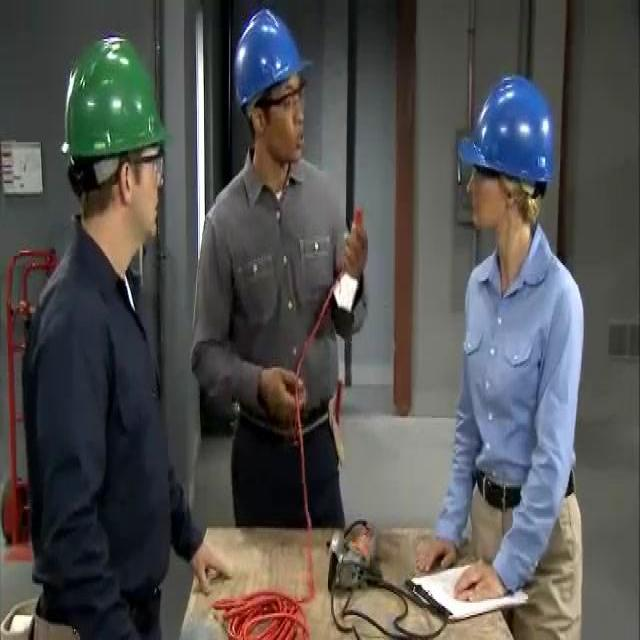Safety-Helmet: (52, 22, 178, 188), (451, 60, 569, 208), (223, 2, 317, 122)
